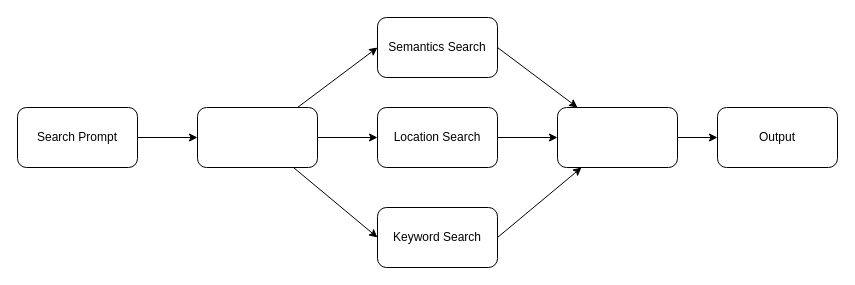
Some shapes in this 855 by 285 pixel diagram are drawn without their labels. Each missing label, with the centre of its shape:
GenAI for Classification: the point at 257,137
Reranking: the point at 617,137
